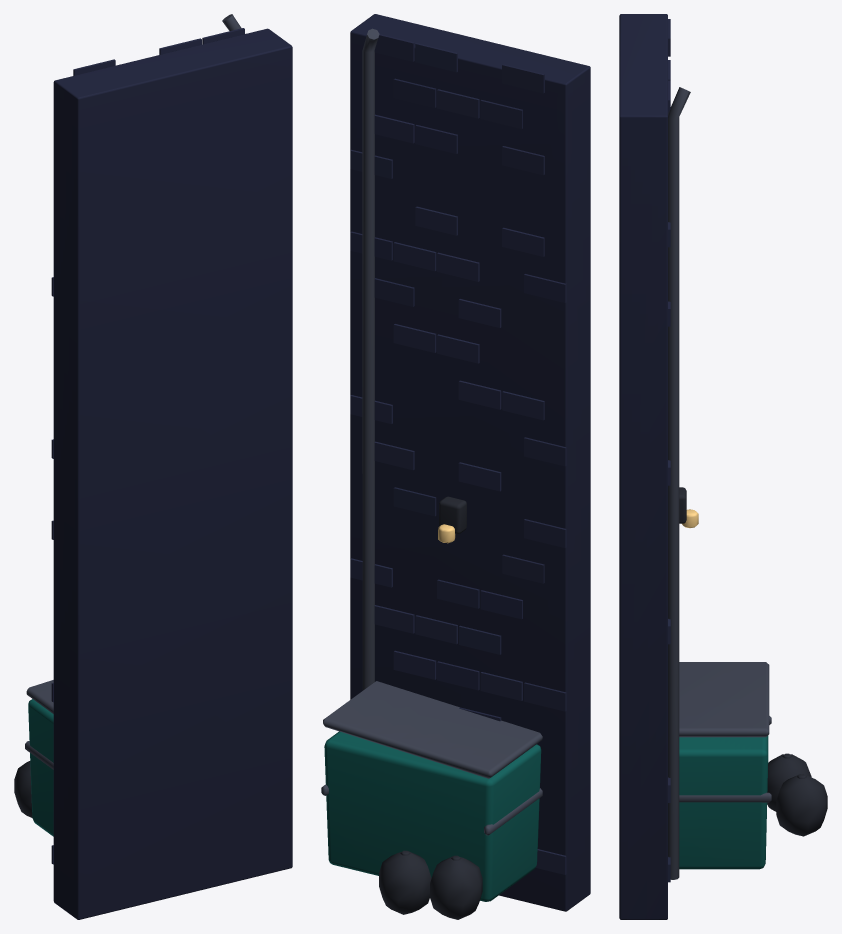
File: SM_City_AlleyEnd_200.fbx
3 views of the same model, side by side, from view 1: azimuth 30°, elevation 25°; view 2: azimuth 150°, elevation 25°; view 3: azimuth 270°, elevation 25° (orthographic). The views are drawn at different scales.
Parts seen in each view (by area): view 1: SM_City_AlleyEnd_200; view 2: SM_City_AlleyEnd_200; view 3: SM_City_AlleyEnd_200.
Boxes of the visible parts, x1,y1,x2,y2 form: SM_City_AlleyEnd_200: (14,14,292,919); SM_City_AlleyEnd_200: (321,14,590,919); SM_City_AlleyEnd_200: (619,14,827,919).
Bounding box in the file's own units: 200 × 743 × 171.
